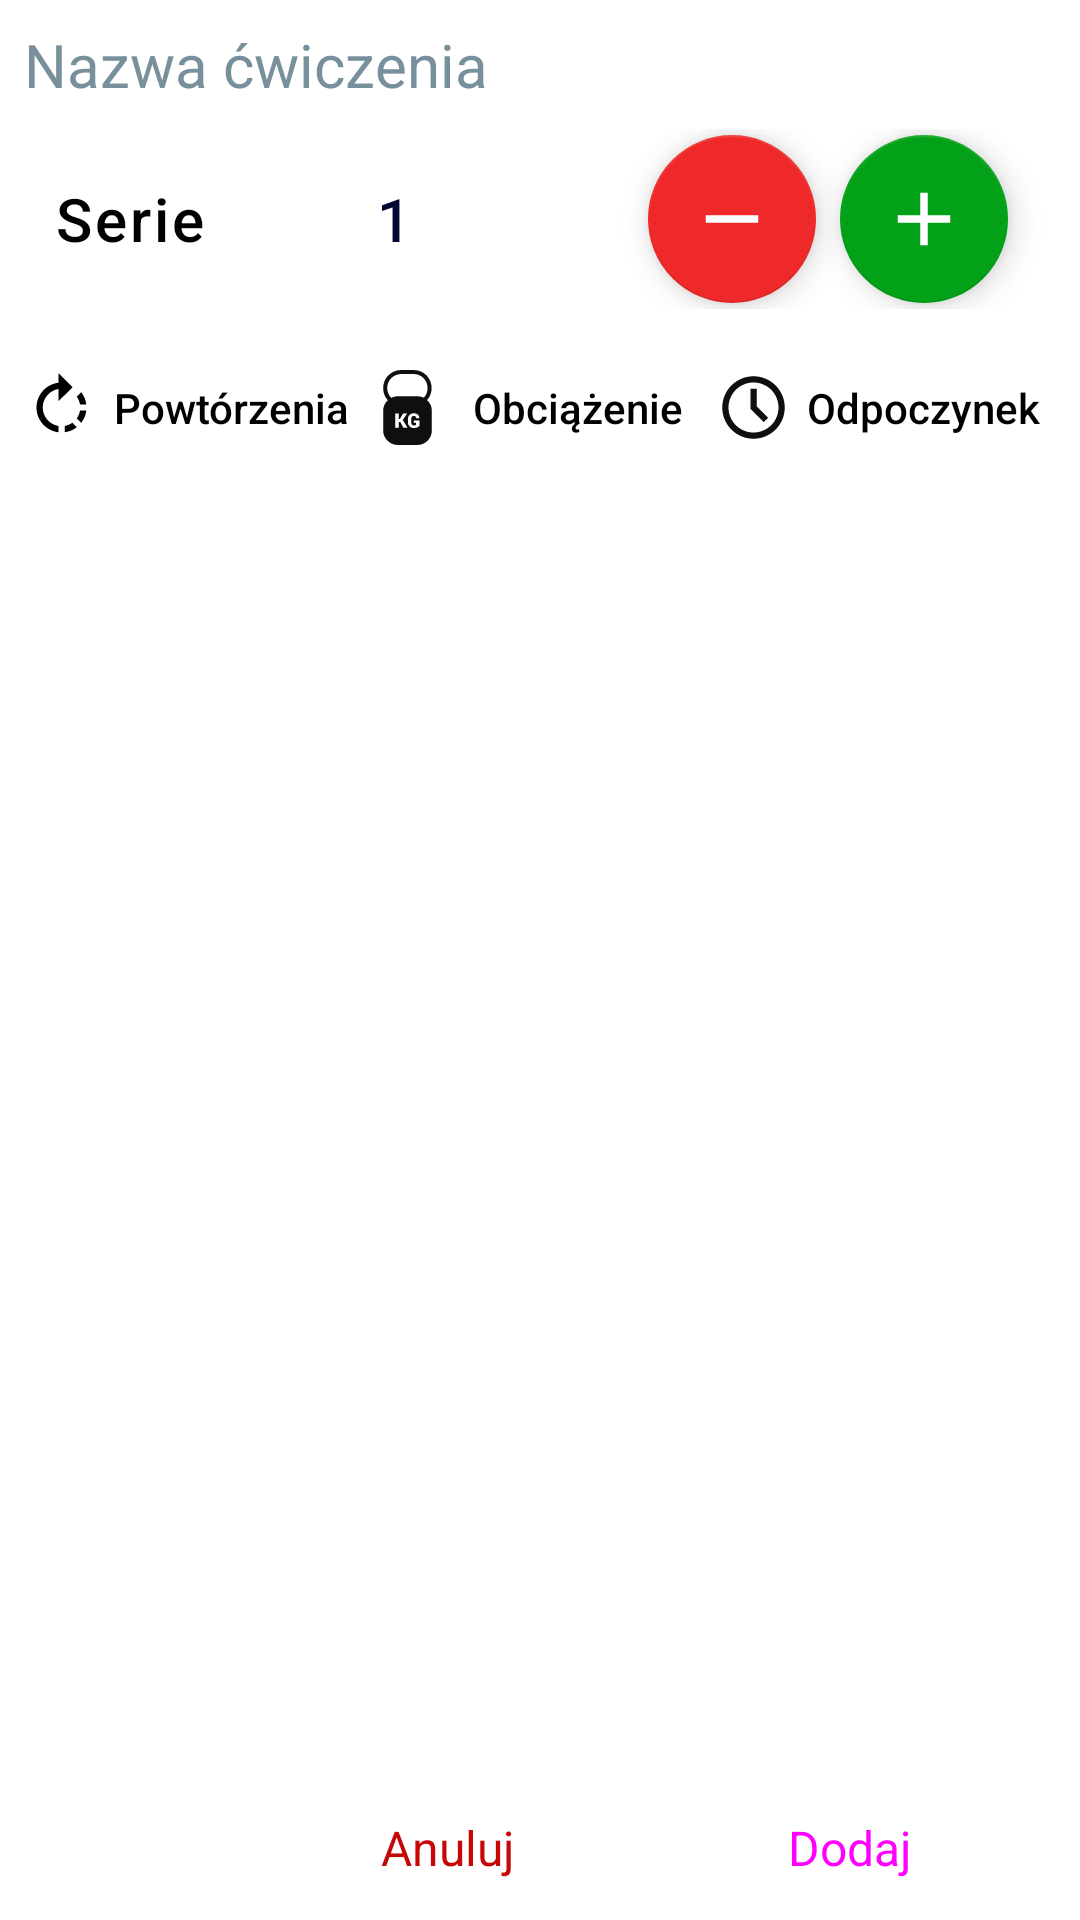

Icons on this 1080 x 1920 Android screen, each with the point to tap as point (x, y):
Dodaj serie: point (924, 219)
Zmniejsz serie: point (732, 219)
